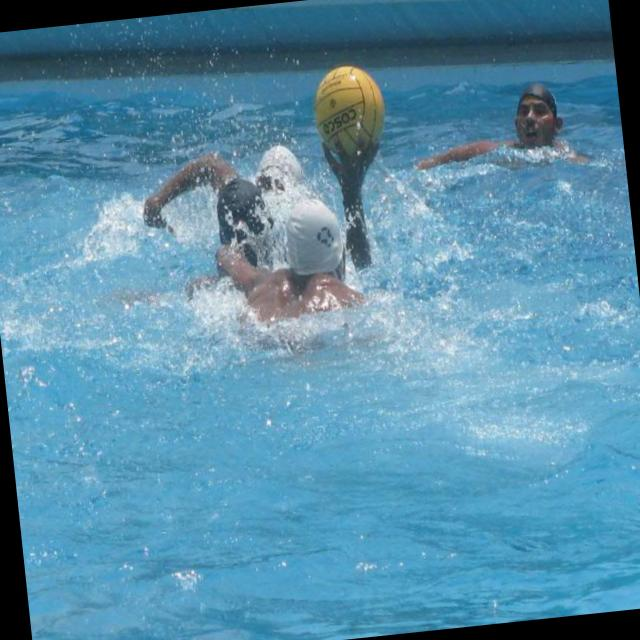Ball: (310, 62, 388, 159)
